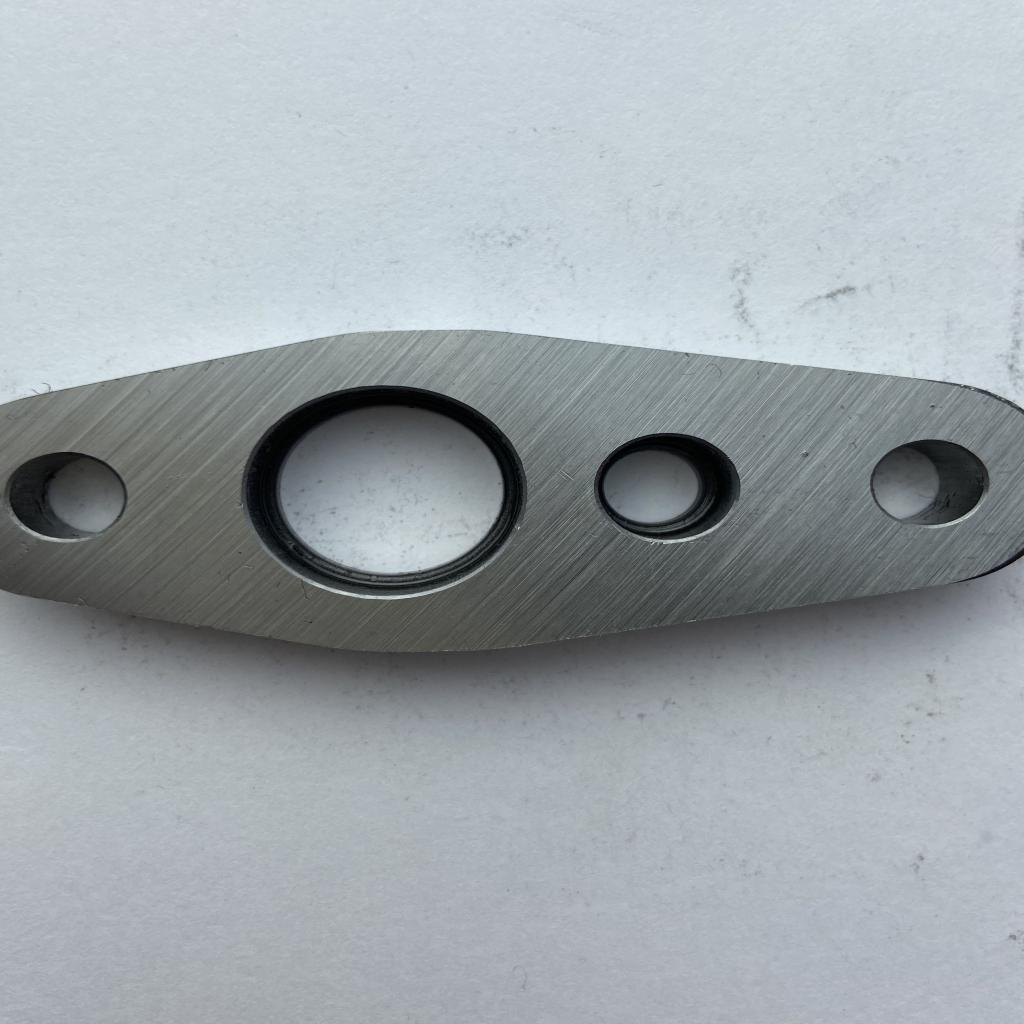chap: (554, 464, 578, 486), (16, 536, 41, 556), (230, 497, 247, 512), (795, 446, 813, 460), (922, 401, 940, 412)
